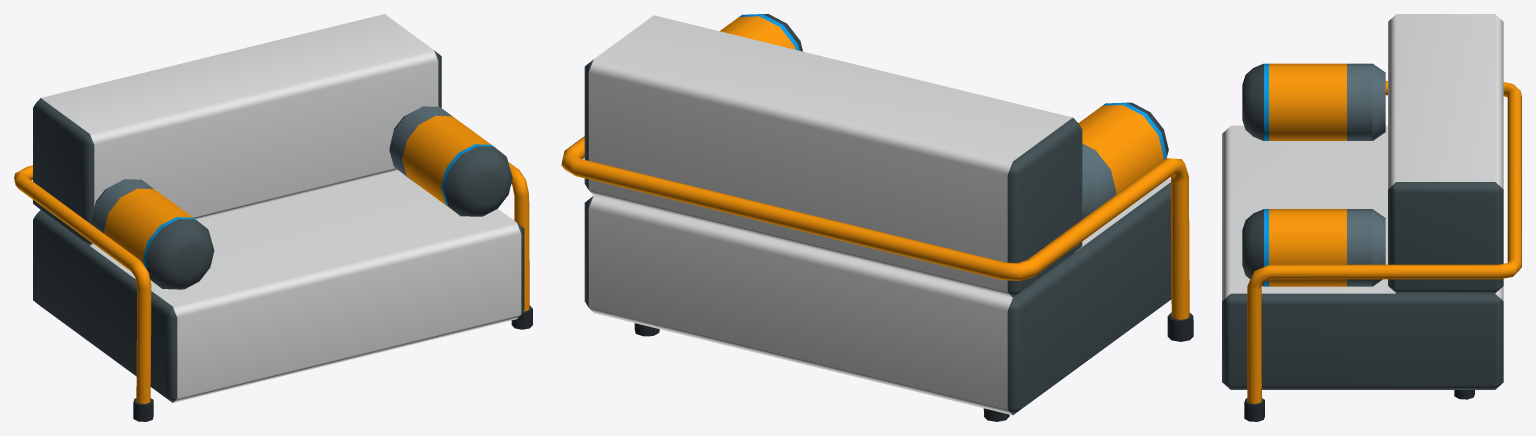
Rendered from Mini_sofa_008.fbx.
The picture shows the model from 3 angles, left to right: view 1: azimuth 30°, elevation 25°; view 2: azimuth 150°, elevation 25°; view 3: azimuth 270°, elevation 25°; orthographic projection. The views are drawn at different scales.
Parts seen in each view (by area): view 1: Mini_sofa_008; view 2: Mini_sofa_008; view 3: Mini_sofa_008.
Part boxes in pixels (left/top/right/bottom): Mini_sofa_008: left=14, top=14, right=532, bottom=421; Mini_sofa_008: left=561, top=14, right=1193, bottom=421; Mini_sofa_008: left=1222, top=14, right=1521, bottom=421.
Bounding box in the file's own units: 154 × 101 × 84.24.
